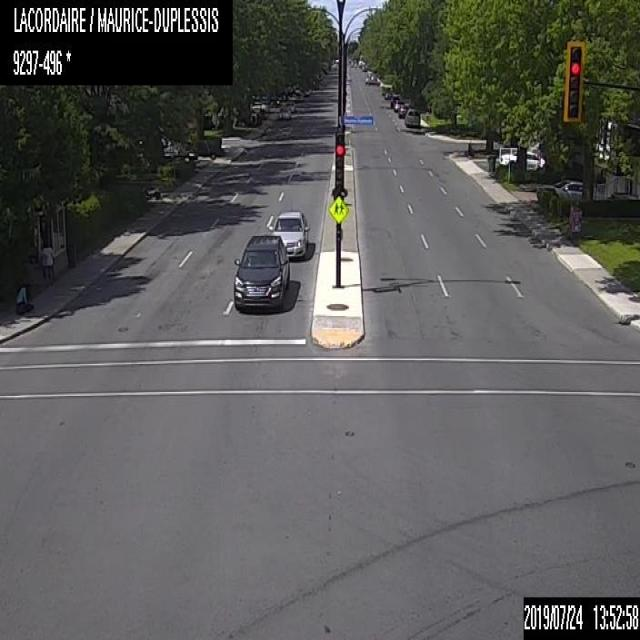pedestrian: (41, 244, 56, 283), (14, 282, 28, 314)
vehicle: (232, 234, 289, 310), (269, 211, 311, 258), (533, 178, 596, 204), (498, 147, 546, 171), (163, 144, 197, 162), (404, 108, 420, 127), (364, 70, 378, 83), (276, 106, 291, 117), (397, 104, 410, 116), (284, 100, 297, 111), (393, 98, 404, 110), (390, 93, 400, 106), (383, 89, 392, 98), (362, 64, 366, 70)
